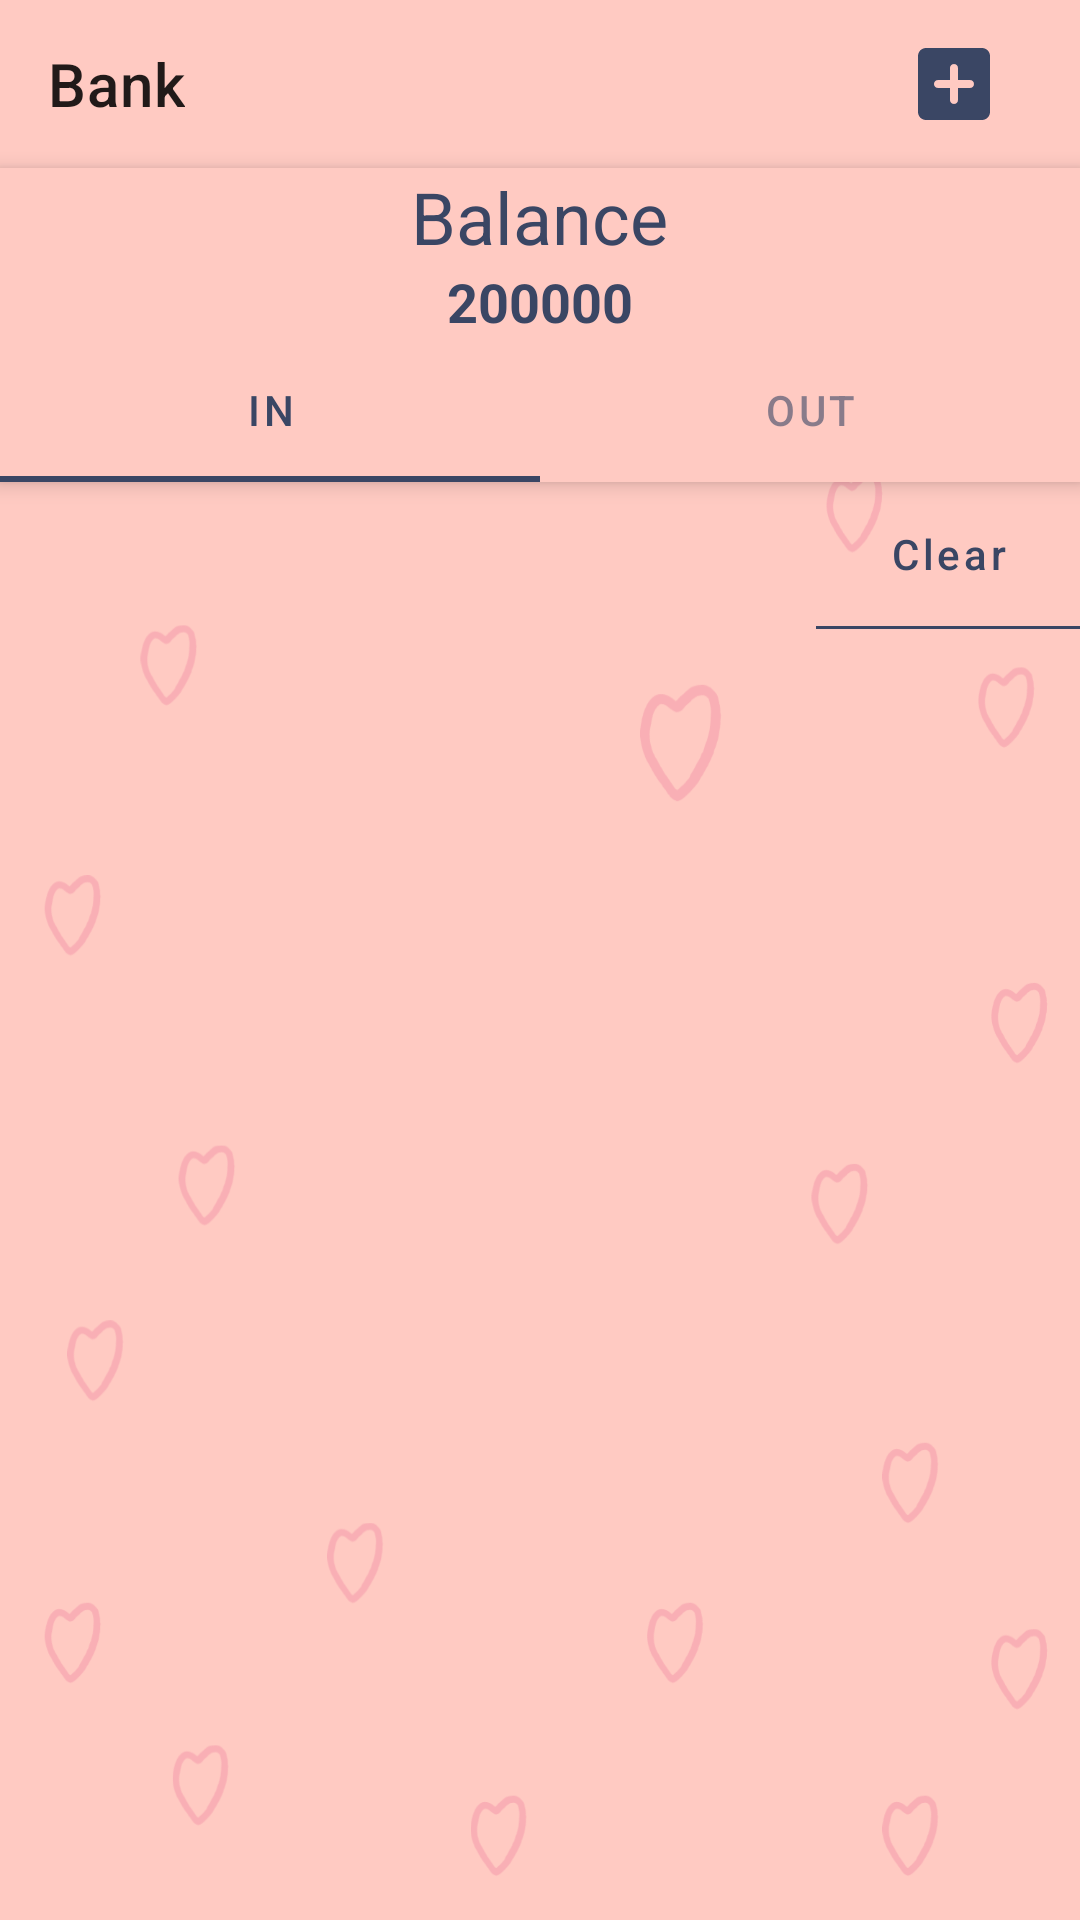

Named icons in this screenshot (1080 × 1920) and their centers, point (x, y):
add box: point (954, 84)
